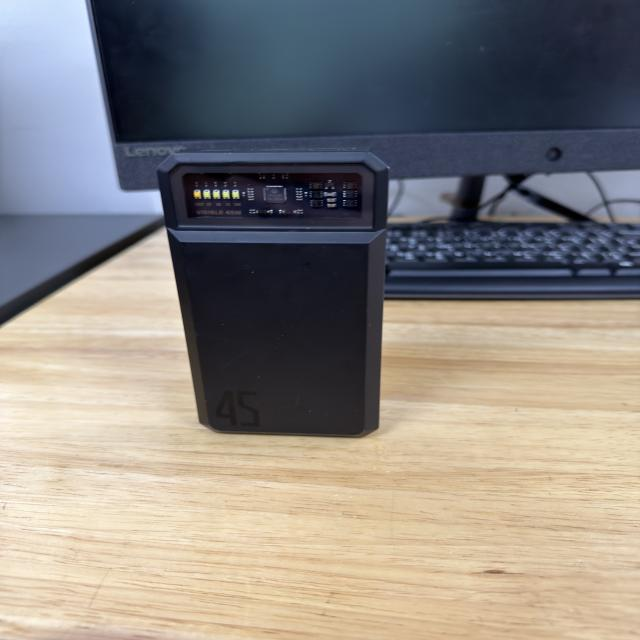power bank: (157, 146, 396, 441)
